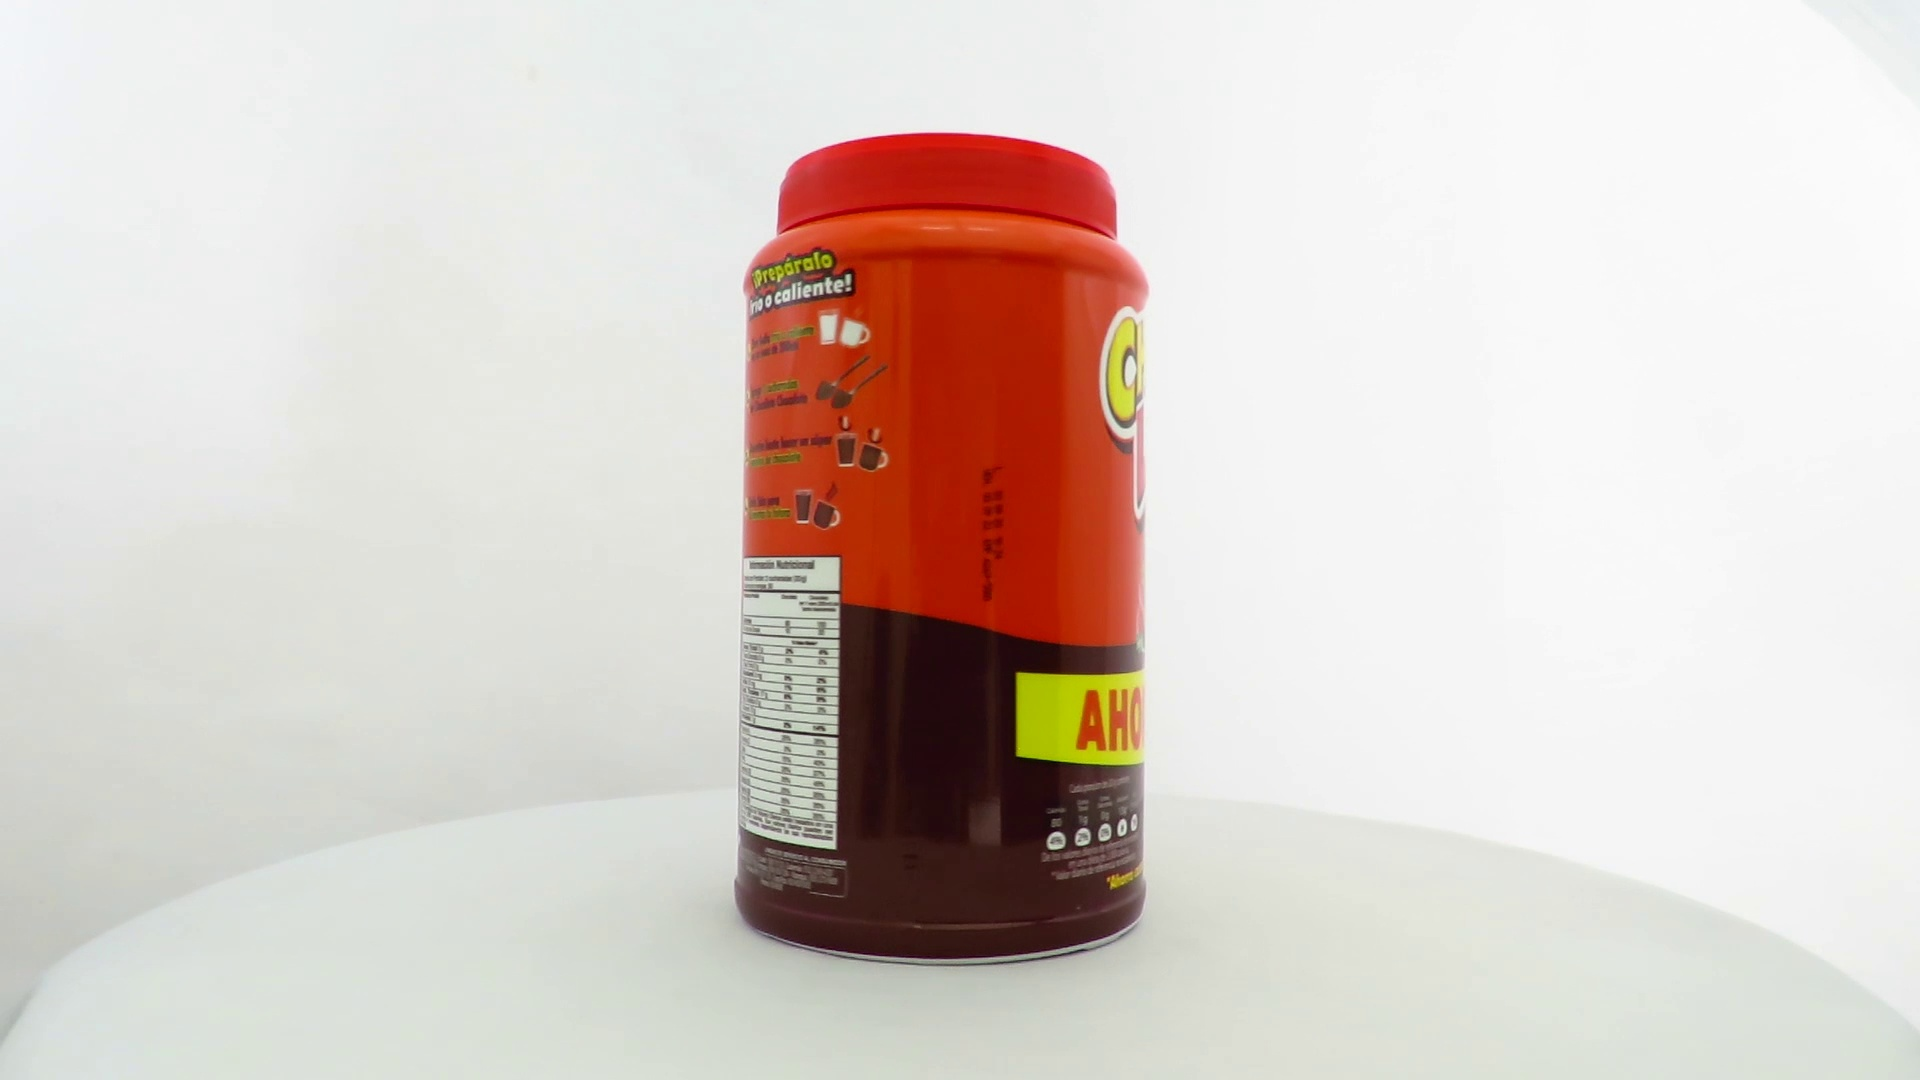COL0170103TRR00100: (729, 488, 1153, 973)
